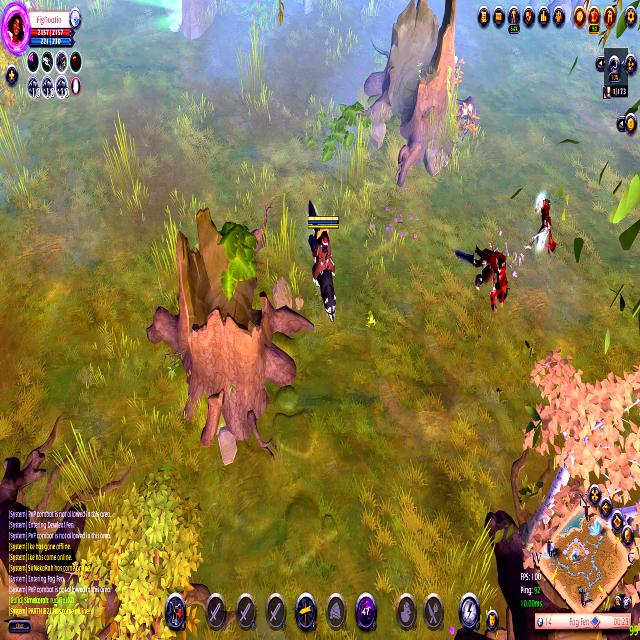hide: (452, 91, 477, 153), (449, 49, 467, 90)
ore: (450, 242, 515, 326), (524, 186, 565, 270)
red: (296, 192, 344, 319)
wisp caged: (525, 325, 640, 640)
